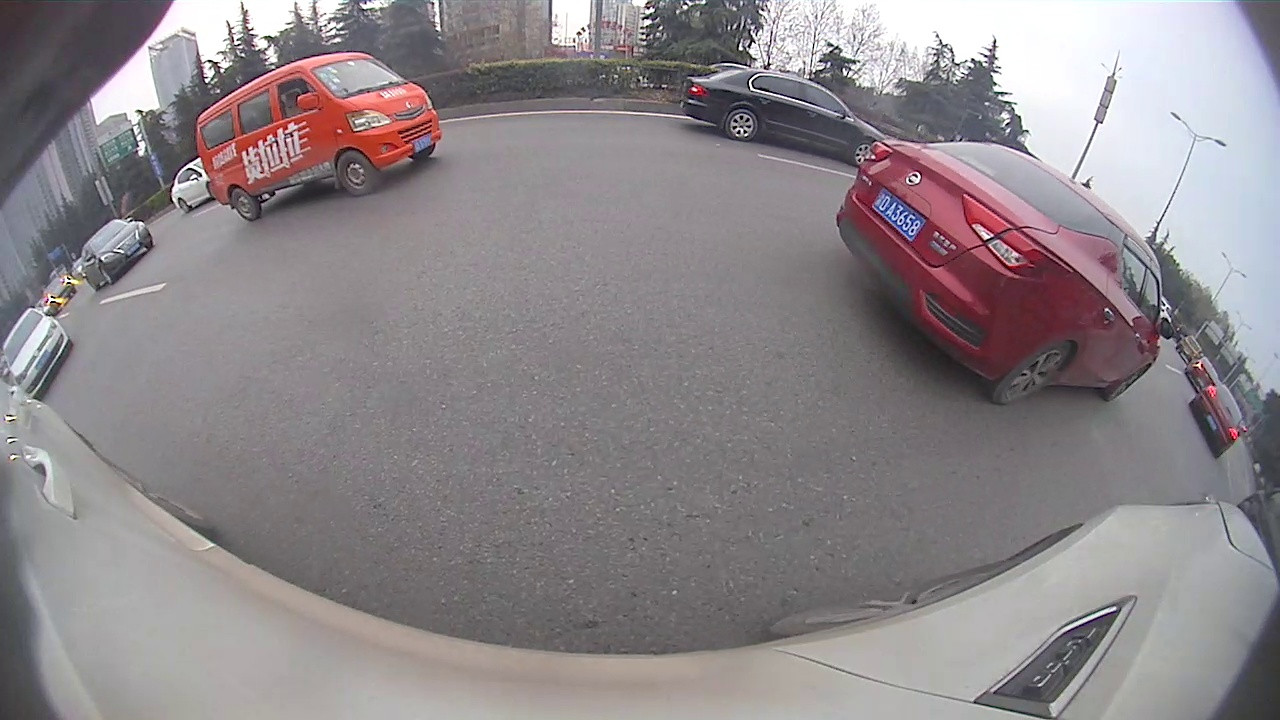car: (835, 140, 1173, 407), (197, 50, 440, 222), (680, 66, 886, 169), (0, 306, 73, 398), (74, 216, 154, 291), (1191, 383, 1246, 458), (167, 157, 212, 214)
front: (333, 148, 380, 201), (851, 140, 880, 170)
rear: (990, 341, 1071, 408), (723, 106, 760, 143), (229, 186, 260, 224)
